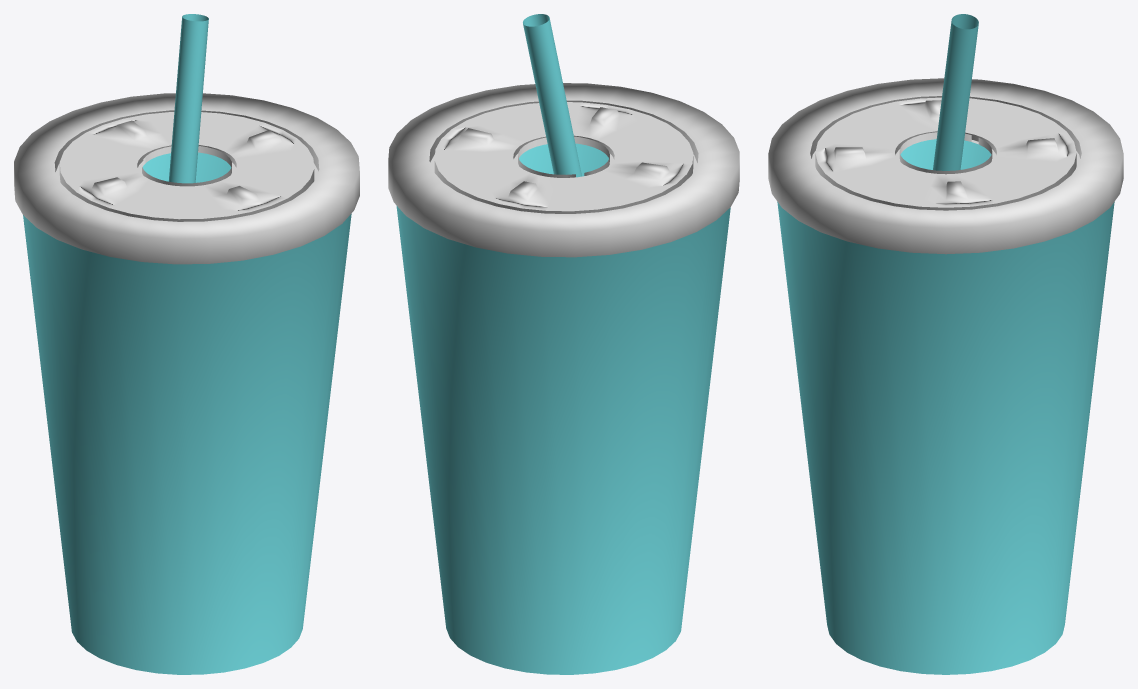
Rendered from boisson.glb.
3 renders of one model, left to right at view 1: azimuth 30°, elevation 25°; view 2: azimuth 150°, elevation 25°; view 3: azimuth 270°, elevation 25°, orthographic. The views are drawn at different scales.
Parts seen in each view (by area): view 1: Cup; view 2: Cup; view 3: Cup.
Part boxes in pixels (x1=…): Cup: x1=14, y1=14, x2=359, y2=674; Cup: x1=388, y1=14, x2=739, y2=674; Cup: x1=768, y1=14, x2=1123, y2=674.
Size of the model in its own units: 0.4483 by 0.8556 by 0.4483.
